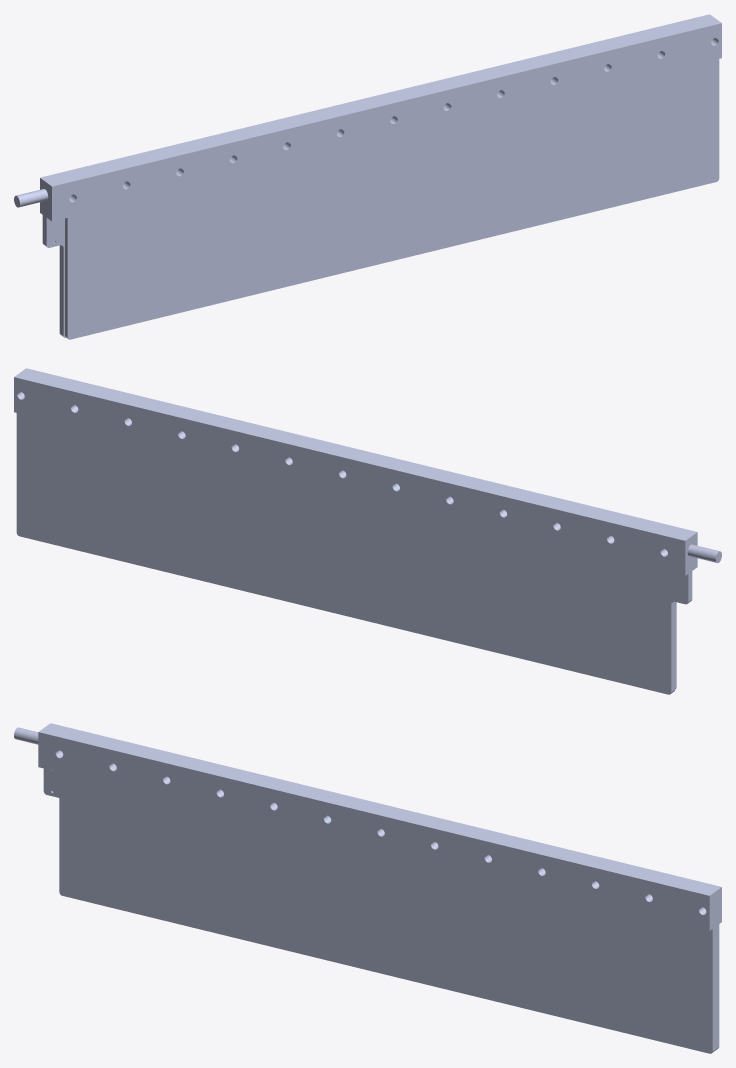
Rendered from MUC-12.glb.
3 views of the same model, one above another, from view 1: azimuth 30°, elevation 25°; view 2: azimuth 150°, elevation 25°; view 3: azimuth 330°, elevation 25° (orthographic).
Visible parts, largest first — view 1: MUC-12_node_1; view 2: MUC-12_node_1; view 3: MUC-12_node_1.
Part boxes in pixels (left/top/right/bottom): MUC-12_node_1: left=14, top=14, right=721, bottom=339; MUC-12_node_1: left=14, top=368, right=721, bottom=694; MUC-12_node_1: left=14, top=723, right=721, bottom=1053.
Size of the model in its own units: 496 by 109 by 15.
